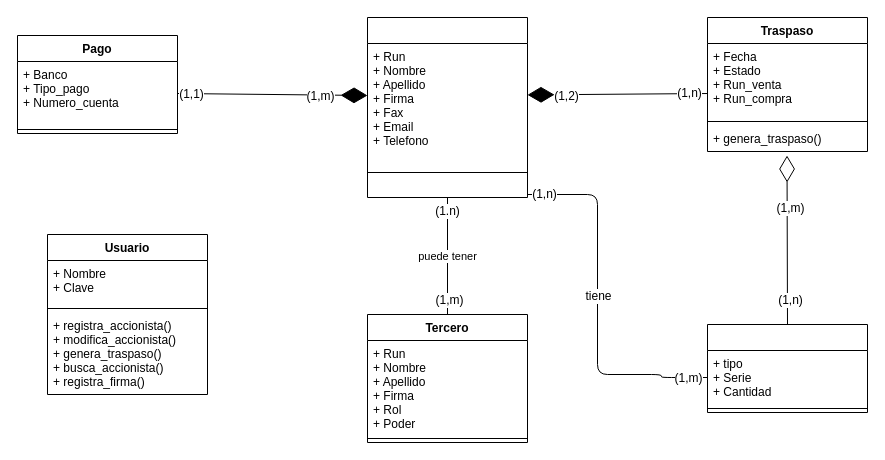
The diagram is 885 pixels wide and 460 high, and some of its shapes have lost their labels. The box of each missing label's shape, as (x1, y1, x2, y2) in pixels:
Acciones: (706, 324, 868, 412)
Accionista: (366, 16, 528, 198)
